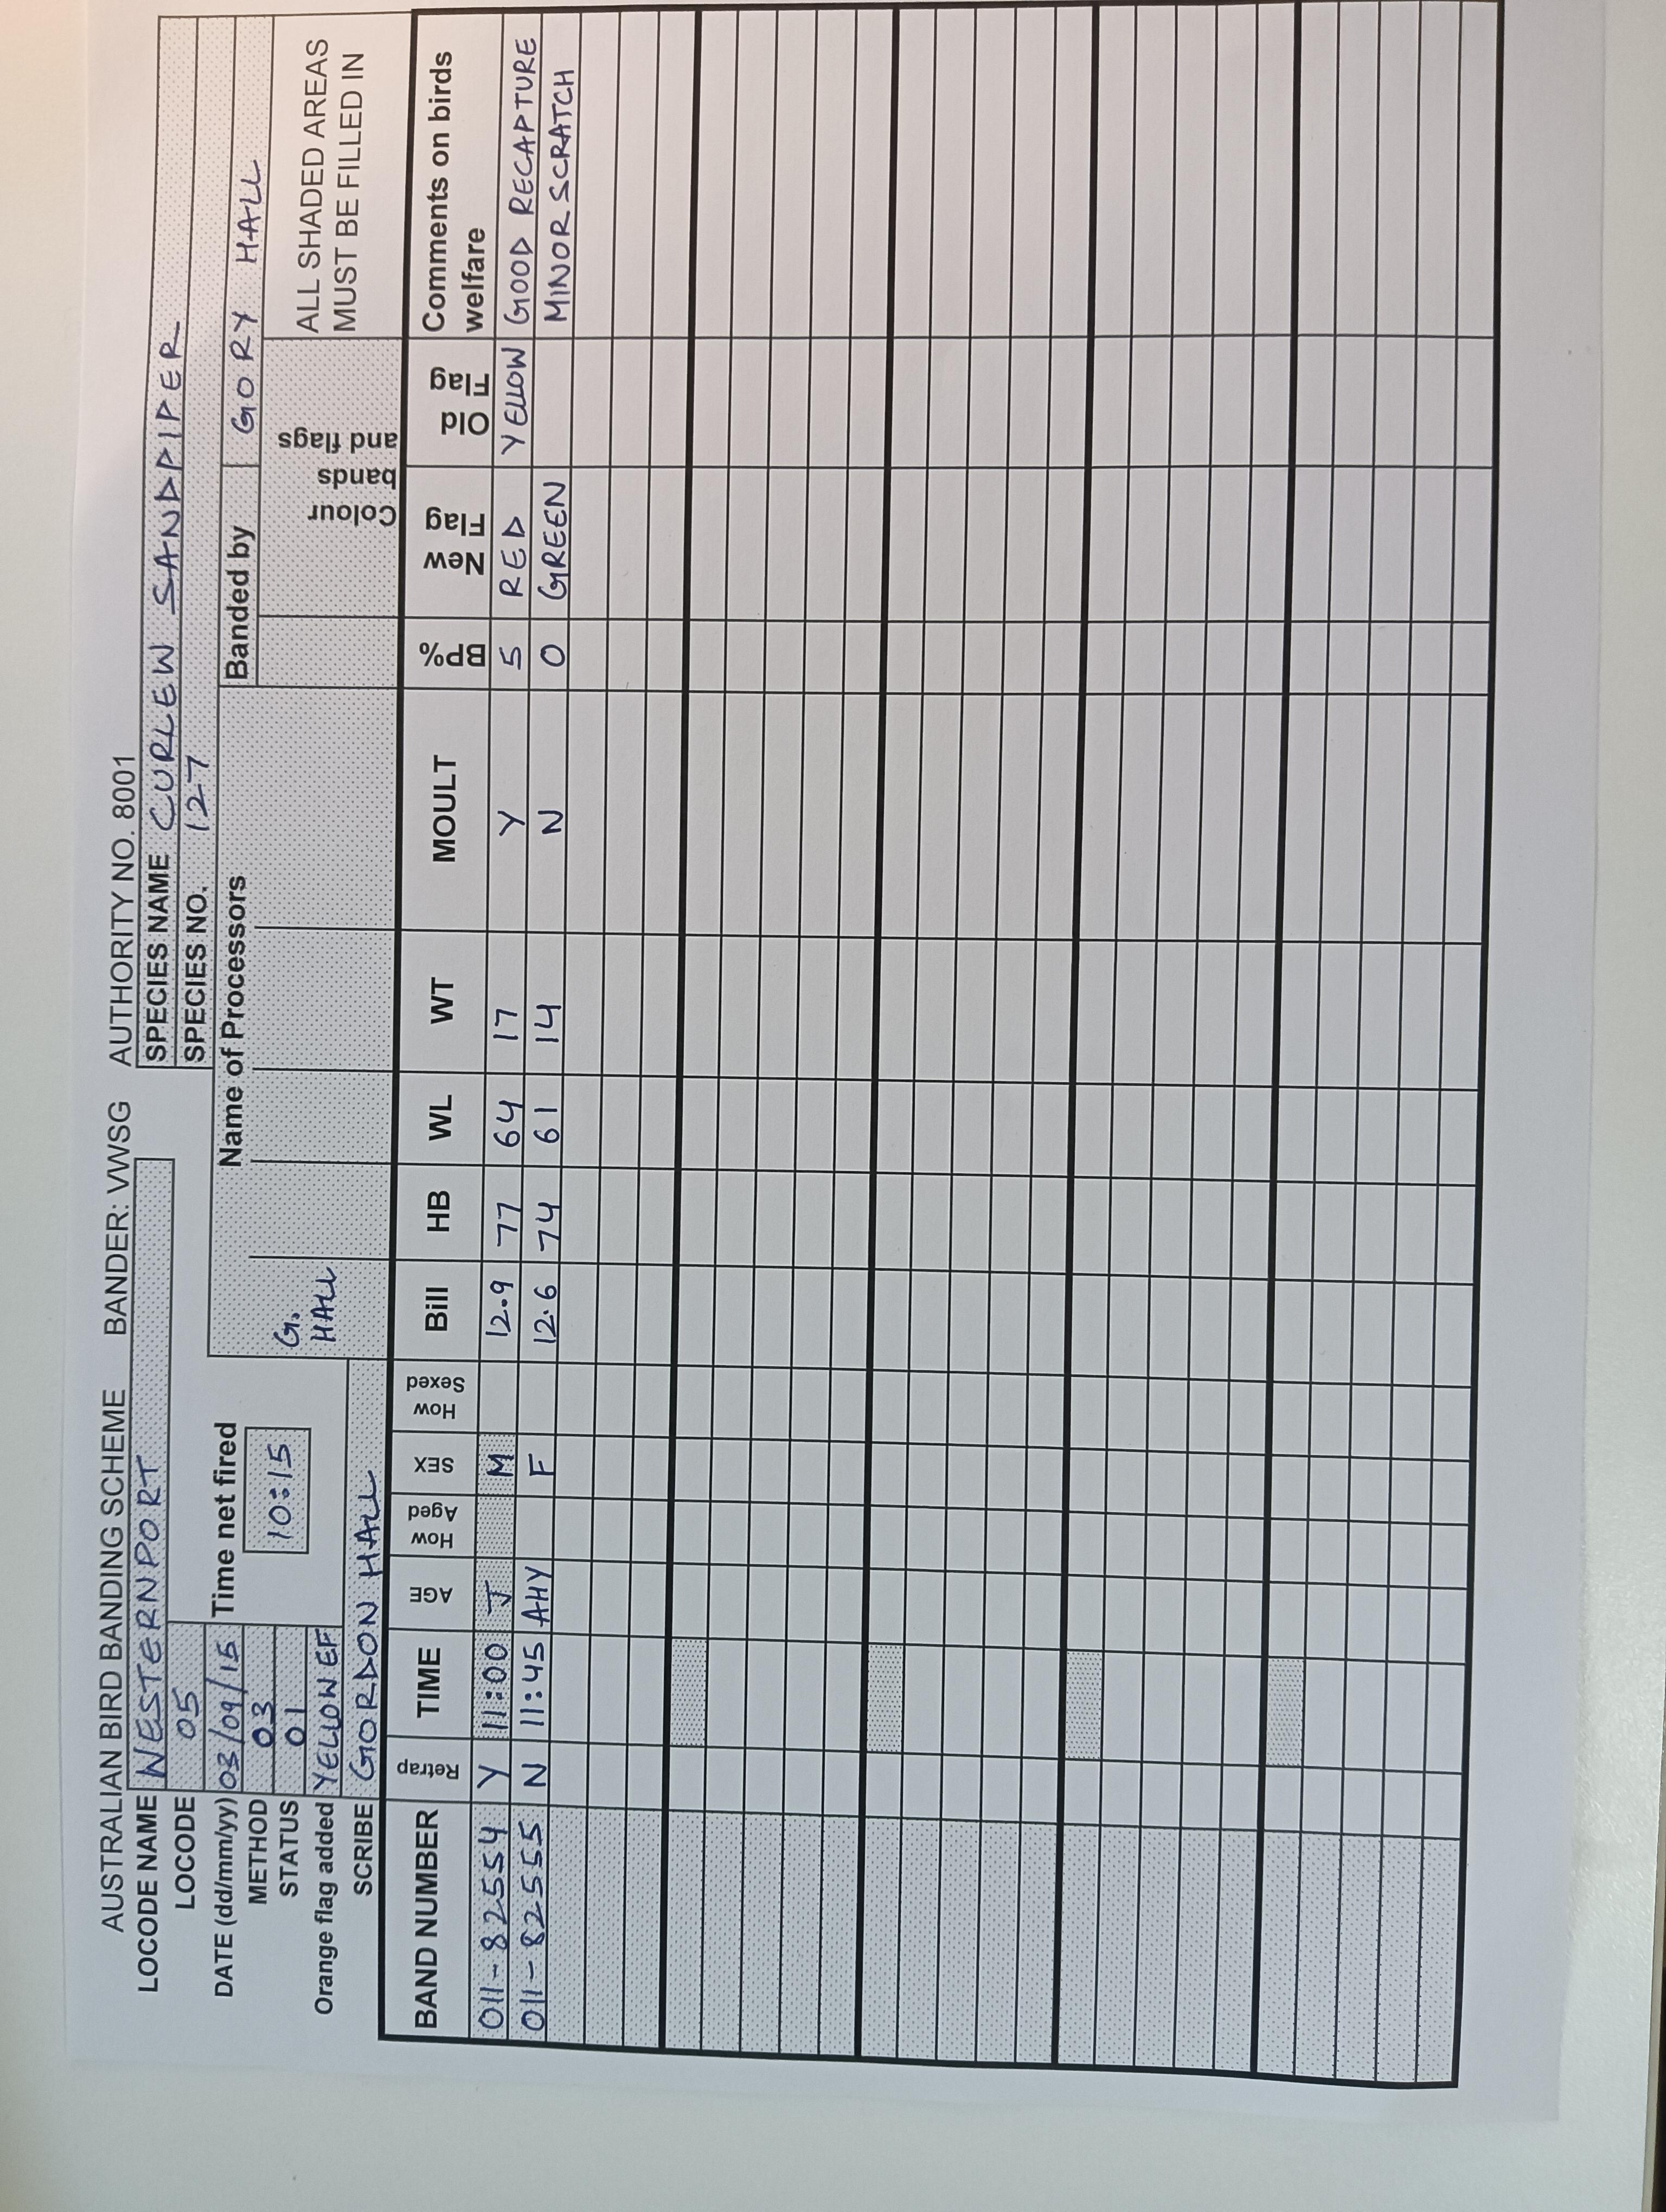BANDED_BY: (222, 12, 273, 687)
DATA: (469, 10, 544, 2042), (506, 10, 578, 2051)
DATE: (201, 1621, 245, 2011)
LOCOCODE: (166, 1617, 208, 1934)
LOCOCODE_NAME: (126, 1154, 175, 2006)
METHOD: (242, 1621, 275, 1925)
NAME_OF_PROCESSORS: (243, 1257, 394, 1359)
ORANGE_FLAG_ADDED: (305, 1624, 346, 2023)
SCRIBE: (341, 1357, 392, 1913)
SPECIES_NAME: (135, 17, 199, 1068)
SPECIES_NO: (173, 12, 235, 1072)
STATUS: (275, 1623, 306, 1929)
TIME_NET_FIRED: (196, 1376, 332, 1621)
